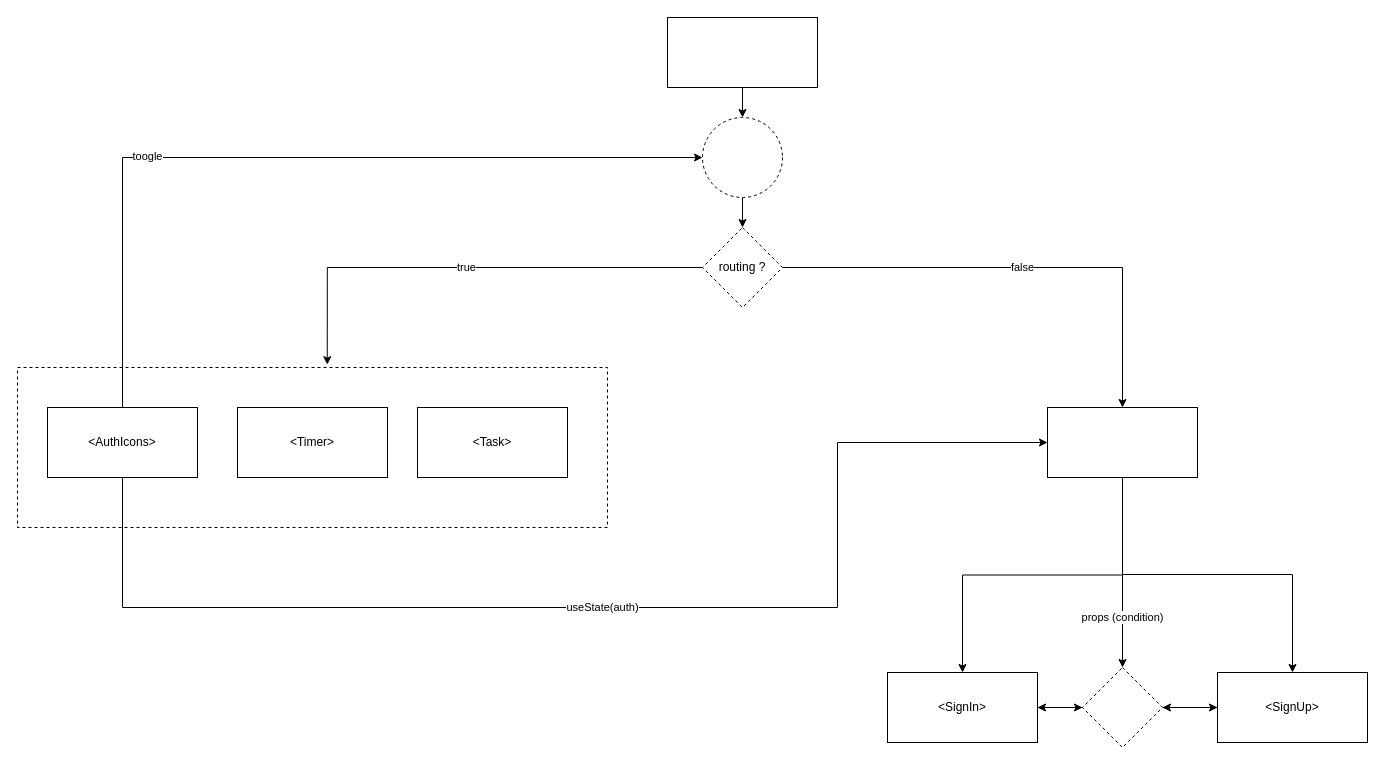
Image size: 1385x765. Some labels were removed from this diagram. The centre of each missing label's shape, as x and y in pixels:
"<App>" goes at (x=742, y=52).
"<Auth>" goes at (x=1122, y=442).
